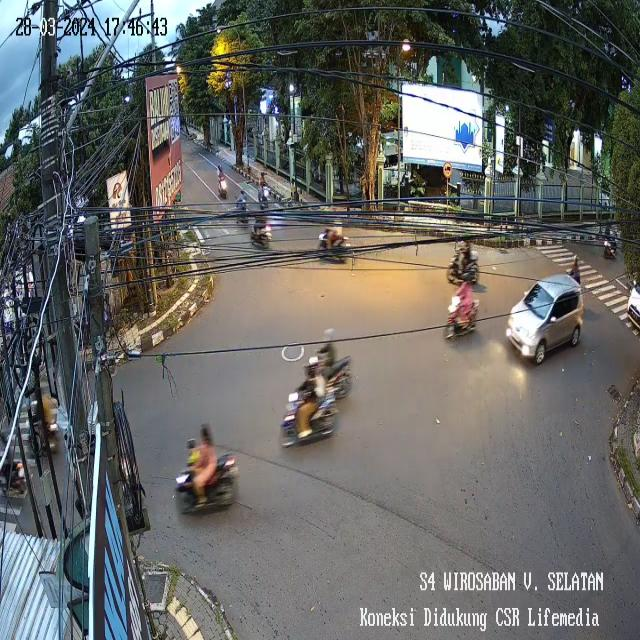car: (504, 267, 582, 365), (626, 280, 640, 336)
motorcycle: (170, 425, 238, 521), (276, 354, 338, 455), (308, 327, 354, 409), (442, 276, 483, 344), (314, 210, 354, 268), (446, 230, 480, 290), (247, 208, 275, 250), (232, 187, 253, 227), (258, 166, 272, 213), (216, 158, 231, 201), (600, 225, 618, 260), (566, 252, 585, 281)
